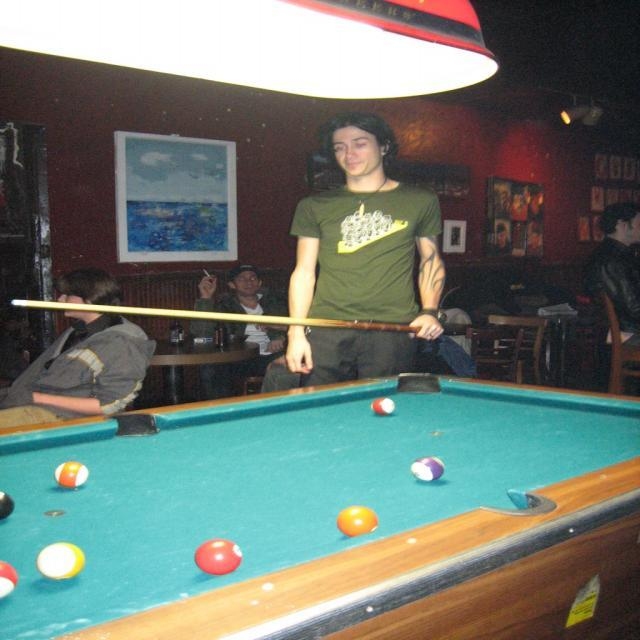Ball: (36, 542, 85, 582), (193, 538, 242, 576), (334, 504, 380, 539), (410, 456, 444, 484), (54, 462, 89, 488), (0, 560, 18, 606), (370, 396, 395, 416)
Billiard table: (0, 372, 640, 640)
